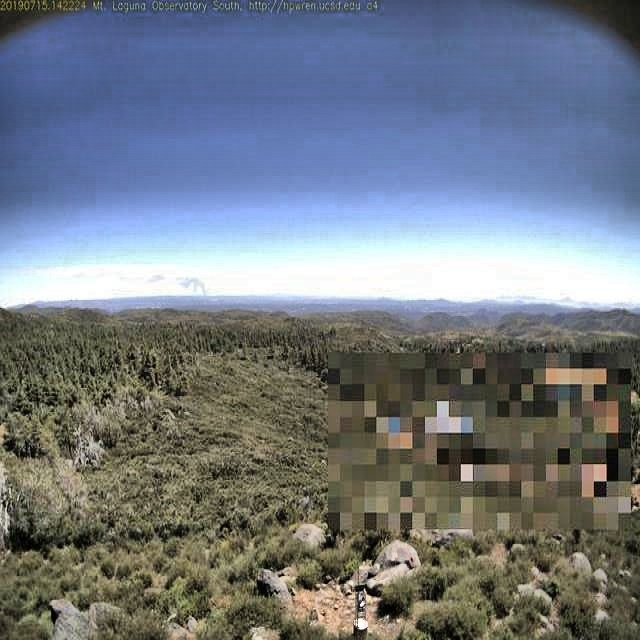smoke: (175, 273, 212, 299)
